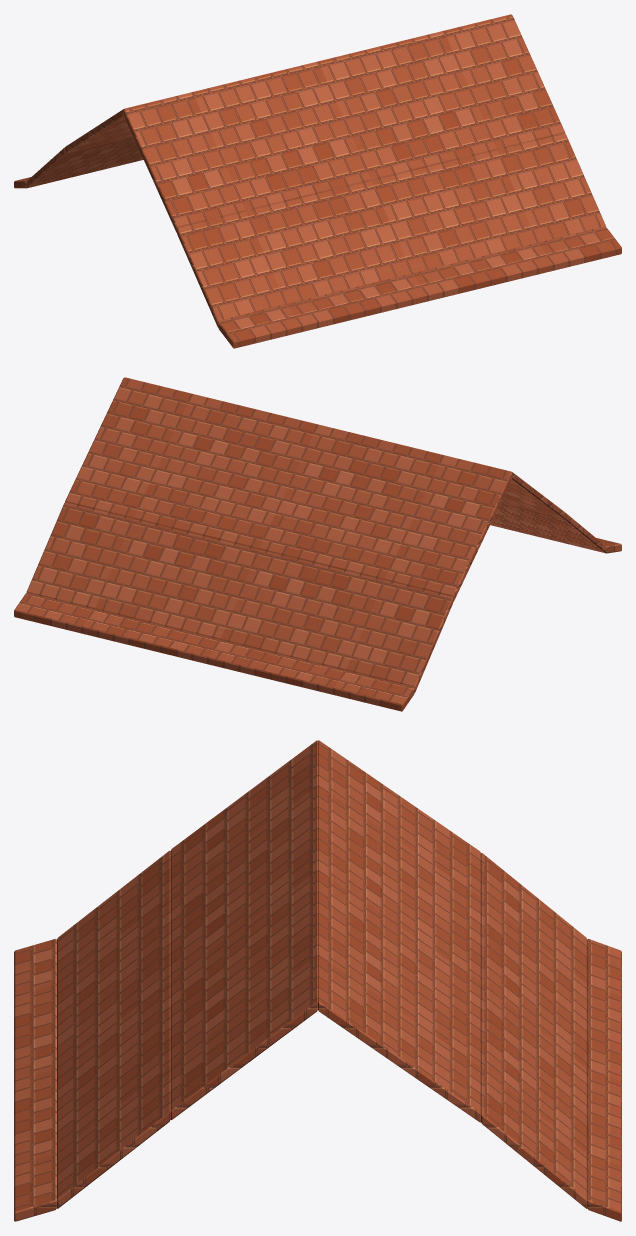
The model's file is SM_HH_V2_Roof_Main.fbx.
The picture shows the model from 3 angles, top to bottom: view 1: azimuth 30°, elevation 25°; view 2: azimuth 150°, elevation 25°; view 3: azimuth 270°, elevation 25°; orthographic projection. The views are drawn at different scales.
Parts seen in each view (by area): view 1: HH_V2_Roof_Main; view 2: HH_V2_Roof_Main; view 3: HH_V2_Roof_Main.
Part boxes in pixels (bbox=[...]): HH_V2_Roof_Main: bbox=[14, 14, 621, 348]; HH_V2_Roof_Main: bbox=[14, 377, 621, 711]; HH_V2_Roof_Main: bbox=[14, 740, 621, 1221].
Size of the model in its own units: 9.7 by 9.9 by 3.88.
